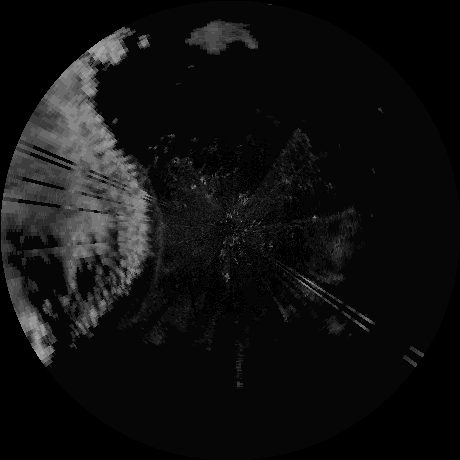frontgust: (148, 181, 166, 299)
